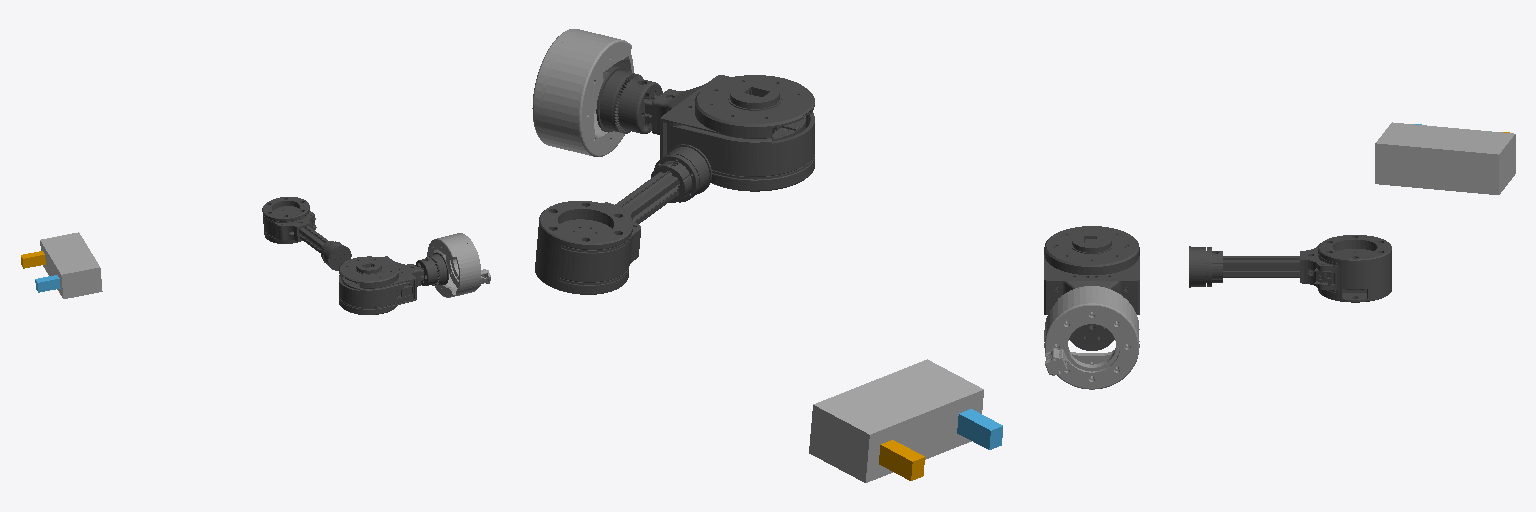
robot.urdf — DIVAR2V:
<?xml version="1.0" encoding="utf-8"?>
<!-- This URDF was automatically created by SolidWorks to URDF Exporter! Originally created by [author] ([email redacted])
     Commit Version: 1.6.0-1-g15f4949  Build Version: 1.6.7594.29634
     For more information, please see http://wiki.ros.org/sw_urdf_exporter -->
<!-- Modified inertial data based on AK motors -->
<robot
  name="DIVAR2V">
  <link
    name="base_link">
    <inertial>
      <origin
        xyz="0.0338364901739526 -0.00033626459572959 -9.69008007512981E-05"
        rpy="0 0 0" />
      <mass
        value="0.298766922776314" />
      <inertia
        ixx="0.000318637899977369"
        ixy="-3.60356780952487E-06"
        ixz="-8.01985345093479E-06"
        iyy="0.000243715324843074"
        iyz="-3.99019261867312E-05"
        izz="0.000150326005973297" />
    </inertial>
    <visual>
      <origin
        xyz="0 0 0"
        rpy="0 0 0" />
      <geometry>
        <mesh
          filename="../meshes/base_link.obj" />
      </geometry>
      <material
        name="">
        <color
          rgba="0.627450980392157 0.627450980392157 0.627450980392157 1" />
      </material>
    </visual>
    <collision>
      <origin
        xyz="0 0 0"
        rpy="0 0 0" />
      <geometry>
        <mesh
          filename="../meshes/base_link.obj" />
      </geometry>
    </collision>
  </link>
  <link
    name="link1">
    <inertial>
      <origin
        xyz="0.0015605 0.00039961 0.1303"
        rpy="0 0 0" />
      <mass
        value="0.621" />
      <inertia
        ixx="0.00063086"
        ixy="1.0188E-07"
        ixz="-4.5061E-06"
        iyy="0.00036201"
        iyz="2.3142E-08"
        izz="0.00060371" />
    </inertial>
    <visual>
      <origin
        xyz="0 0 0"
        rpy="0 0 0" />
      <geometry>
        <mesh
          filename="../meshes/link1.obj" />
      </geometry>
      <material
        name="">
        <color
          rgba="0.3451 0.3451 0.3451 1" />
      </material>
    </visual>
    <collision>
      <origin
        xyz="0 0 0"
        rpy="0 0 0" />
      <geometry>
        <mesh
          filename="../meshes/link1.obj" />
      </geometry>
    </collision>
  </link>
  <joint
    name="joint1"
    type="revolute">
    <origin
      xyz="0.025 0 0"
      rpy="0 -1.5708 0" />
    <parent
      link="base_link" />
    <child
      link="link1" />
    <axis
      xyz="0 0 1" />
  </joint>
  <link
    name="link2">
    <inertial>
      <origin
        xyz="-8.9718E-05 -0.06338 0.0072056"
        rpy="0 0 0" />
      <mass
        value="0.468" />
      <inertia
        ixx="0.0002988"
        ixy="-1.088E-06"
        ixz="-1.2272E-05"
        iyy="0.00032243"
        iyz="-1.6792E-06"
        izz="0.00027812" />
    </inertial>
    <visual>
      <origin
        xyz="0 0 0"
        rpy="0 0 0" />
      <geometry>
        <mesh
          filename="../meshes/link2.obj" />
      </geometry>
      <material
        name="">
        <color
          rgba="0.3451 0.3451 0.3451 1" />
      </material>
    </visual>
    <collision>
      <origin
        xyz="0 0 0"
        rpy="0 0 0" />
      <geometry>
        <mesh
          filename="../meshes/link2.obj" />
      </geometry>
    </collision>
  </link>
  <joint
    name="joint2"
    type="revolute">
    <origin
      xyz="0.00465 0 0.16275"
      rpy="3.1416 -1.5708 0" />
    <parent
      link="link1" />
    <child
      link="link2" />
    <axis
      xyz="0 0 1" />
  </joint>
  <link
    name="link3">
    <inertial>
      <origin
        xyz="-0.0027038 -0.00048992 0.18137"
        rpy="0 0 0" />
      <mass
        value="0.562" />
      <inertia
        ixx="0.00023922"
        ixy="-2.8245E-06"
        ixz="2.5833E-06"
        iyy="0.00017088"
        iyz="1.3582E-05"
        izz="0.00018722" />
    </inertial>
    <visual>
      <origin
        xyz="0 0 0"
        rpy="0 0 0" />
      <geometry>
        <mesh
          filename="../meshes/link3.obj" />
      </geometry>
      <material
        name="">
        <color
          rgba="0.3451 0.3451 0.3451 1" />
      </material>
    </visual>
    <collision>
      <origin
        xyz="0 0 0"
        rpy="0 0 0" />
      <geometry>
        <mesh
          filename="../meshes/link3.obj" />
      </geometry>
    </collision>
  </link>
  <joint
    name="joint3"
    type="revolute">
    <origin
      xyz="0 -0.088176 0.0044"
      rpy="1.5708 -1.4835 0" />
    <parent
      link="link2" />
    <child
      link="link3" />
    <axis
      xyz="0 0 1" />
  </joint>
  <link
    name="link4">
    <inertial>
      <origin
        xyz="-0.046076 -0.00066572 0.010386"
        rpy="0 0 0" />
      <mass
        value="0.468" />
      <inertia
        ixx="0.0001459"
        ixy="2.3566E-06"
        ixz="2.0693E-06"
        iyy="0.00010742"
        iyz="-1.0243E-05"
        izz="0.00015654" />
    </inertial>
    <visual>
      <origin
        xyz="0 0 0"
        rpy="0 0 0" />
      <geometry>
        <mesh
          filename="../meshes/link4.obj" />
      </geometry>
      <material
        name="">
        <color
          rgba="0.3451 0.3451 0.3451 1" />
      </material>
    </visual>
    <collision>
      <origin
        xyz="0 0 0"
        rpy="0 0 0" />
      <geometry>
        <mesh
          filename="../meshes/link4.obj" />
      </geometry>
    </collision>
  </link>
  <joint
    name="joint4"
    type="revolute">
    <origin
      xyz="-0.0083238 0.00013216 0.21184"
      rpy="1.5708 0.2618 1.5708" />
    <parent
      link="link3" />
    <child
      link="link4" />
    <axis
      xyz="0 0 1" />
  </joint>
  <link
    name="link5">
    <inertial>
      <origin
        xyz="6.9412E-07 -8.0151E-06 0.096764"
        rpy="0 0 0" />
      <mass
        value="0.1834" />
      <inertia
        ixx="0.00048569"
        ixy="-3.3211E-09"
        ixz="-1.2569E-08"
        iyy="0.00048571"
        iyz="2.0111E-10"
        izz="0.000142" />
    </inertial>
    <visual>
      <origin
        xyz="0 0 0"
        rpy="0 0 0" />
      <geometry>
        <mesh
          filename="../meshes/link5.obj" />
      </geometry>
      <material
        name="">
        <color
          rgba="0.054902 0.47059 0.9098 1" />
      </material>
    </visual>
    <collision>
      <origin
        xyz="0 0 0"
        rpy="0 0 0" />
      <geometry>
        <mesh
          filename="../meshes/link5.obj" />
      </geometry>
    </collision>
  </link>
  <joint
    name="joint5"
    type="revolute">
    <origin
      xyz="-0.070176 0.00013216 0.0070738"
      rpy="1.1947 -1.5708 -1.1926" />
    <parent
      link="link4" />
    <child
      link="link5" />
    <axis
      xyz="0 0 1" />
  </joint>


  <link
    name="link6">
    <inertial>
      <origin
        xyz="-0.046076 -0.00066572 0.010386"
        rpy="0 0 0" />
      <mass
        value="0.468" />
      <inertia
        ixx="0.0001459"
        ixy="2.3566E-06"
        ixz="2.0693E-06"
        iyy="0.00010742"
        iyz="-1.0243E-05"
        izz="0.00015654" />
    </inertial>
    <visual>
      <origin
        xyz="0 0 0"
        rpy="0 0 0" />
      <geometry>
        <mesh
          filename="../meshes/link4.obj" />
      </geometry>
      <material
        name="">
        <color
          rgba="0.3451 0.3451 0.3451 1" />
      </material>
    </visual>
    <collision>
      <origin
        xyz="0 0 0"
        rpy="0 0 0" />
      <geometry>
        <mesh
          filename="../meshes/link4.obj" />
      </geometry>
    </collision>
  </link>

  <joint
    name="joint6"
    type="revolute">
    <origin
      xyz="-0.008 0 0.2"
      rpy=" 0 1.57 0" />
    <parent
      link="link5" />
    <child
      link="link6" />
    <axis
      xyz="0 0 1" />
  </joint>

  <link name="gripper">
    <inertial>
      <origin
        xyz="-0.13 0 0"
        rpy="0 0 1.57" />
        <mass
          value="0.988882" />
        <inertia
          ixx="0.162992"
          ixy="0"
          ixz="0"
          iyy="0.162992"
          iyz="0"
          izz="0.164814" />
    </inertial>

    <visual name="visual">
      <origin
        xyz="-0.13 0 0"
        rpy="0 0 1.57" />
      <geometry>
        <box size="0.146 0.0725 0.049521"/>
      </geometry>
    </visual>
    <collision name="collision">
      <origin
        xyz="-0.13 0 0"
        rpy="0 0 1.57" />
      <geometry>
        <box size="0.146 0.0725 0.049521"/>
      </geometry>
    </collision>
  </link>

  <joint
    name="joint7"
    type="revolute">
    <origin
      xyz="0 0 0"
      rpy=" 0 0 0" />
    <parent
      link="link6" />
    <child
      link="gripper" />
    <axis
      xyz="1 0 0" />
  </joint>

  <link name="left_finger">
    <origin
      xyz="-0.17 0.05 0"
      rpy="0 0 1.57" />
    <inertial>
      <mass>0.05</mass>
      <inertia>
        <ixx>0.16</ixx>
        <ixy>0</ixy>
        <ixz>0</ixz>
        <iyy>0.16</iyy>
        <iyz>0</iyz>
        <izz>0.16</izz>
      </inertia>
    </inertial>

    <visual name="visual">
      <origin
        xyz="-0.17 0.05 0"
        rpy="0 0 1.57" />
      <geometry>
        <box size="0.016 0.075 0.02"/>
      </geometry>
    </visual>
    <collision name="collision">
      <origin
        xyz="-0.17 0.05 0"
        rpy="0 0 1.57" />
      <geometry>
        <box size="0.016 0.075 0.02"/>
      </geometry>
    </collision>
  </link>

  <link name="right_finger">
    <origin
      xyz="-0.17 -0.05 0"
      rpy="0 0 1.57" />
    <inertial>
      <mass>0.05</mass>
      <inertia>
        <ixx>0.16</ixx>
        <ixy>0</ixy>
        <ixz>0</ixz>
        <iyy>0.16</iyy>
        <iyz>0</iyz>
        <izz>0.16</izz>
      </inertia>
    </inertial>

    <visual name="visual">
      <origin
        xyz="-0.17 -0.05 0"
        rpy="0 0 1.57" />
      <geometry>
        <box size="0.016 0.075 0.02"/>
      </geometry>
    </visual>
    <collision name="collision">
      <origin
        xyz="-0.17 -0.05 0"
        rpy="0 0 1.57" />
      <geometry>
        <box size="0.016 0.075 0.02"/>
      </geometry>
    </collision>
  </link>

  <joint
    name="left_finger_sliding_joint"
    type="fixed">
    <origin
      xyz="0 0 0"
      rpy=" 0 0 0" />
    <parent
      link="gripper" />
    <child
      link="left_finger" />
    <axis
      xyz="1 0 0" />
  </joint>

  <joint
    name="right_finger_sliding_joint"
    type="fixed">
    <origin
      xyz="0 0 0"
      rpy=" 0 0 0" />
    <parent
      link="gripper" />
    <child
      link="right_finger" />
    <axis
      xyz="1 0 0" />
  </joint>

  <link name="eef"/>
  <joint
    name="eef_joint"
    type="fixed">
    <origin
        xyz="-0.2 0 0"
        rpy="0 0 1.57" />
    <parent
      link="right_finger" />
    <child
      link="eef" />
  </joint>

  <transmission  name="trans1" >
   <type  xmltext="SimpleTransmission" >
    SimpleTransmission
   </type>
   <actuator  name="motor1" >
    <mechanicalreduction  xmltext="1" >
     1
    </mechanicalreduction>
   </actuator>
   <joint  name="joint1" />
  </transmission>

  <transmission  name="trans2" >
   <type  xmltext="SimpleTransmission" >
    SimpleTransmission
   </type>
   <actuator  name="motor2" >
    <mechanicalreduction  xmltext="1" >
     1
    </mechanicalreduction>
   </actuator>
   <joint  name="joint2" />
  </transmission>

  <transmission  name="trans3" >
   <type  xmltext="SimpleTransmission" >
    SimpleTransmission
   </type>
   <actuator  name="motor3" >
    <mechanicalreduction  xmltext="1" >
     1
    </mechanicalreduction>
   </actuator>
   <joint  name="joint3" />
  </transmission>

  <transmission  name="trans4" >
   <type  xmltext="SimpleTransmission" >
    SimpleTransmission
   </type>
   <actuator  name="motor4" >
    <mechanicalreduction  xmltext="1" >
     1
    </mechanicalreduction>
   </actuator>
   <joint  name="joint4" />
  </transmission>

  <transmission  name="trans5" >
   <type  xmltext="SimpleTransmission" >
    SimpleTransmission
   </type>
   <actuator  name="motor5" >
    <mechanicalreduction  xmltext="1" >
     1
    </mechanicalreduction>
   </actuator>
   <joint  name="joint5" />
  </transmission>

  <transmission  name="trans6" >
   <type  xmltext="SimpleTransmission" >
    SimpleTransmission
   </type>
   <actuator  name="motor6" >
    <mechanicalreduction  xmltext="1" >
     1
    </mechanicalreduction>
   </actuator>
   <joint  name="joint6" />
  </transmission>

  <transmission  name="trans7" >
   <type  xmltext="SimpleTransmission" >
    SimpleTransmission
   </type>
   <actuator  name="motor7" >
    <mechanicalreduction  xmltext="1" >
     1
    </mechanicalreduction>
   </actuator>
   <joint  name="joint7" />
  </transmission>
</robot>

--- Facts derived from the render (not from the file) ---
The picture shows the robot from 3 angles, left to right: view 1: azimuth 30°, elevation 25°; view 2: azimuth 150°, elevation 25°; view 3: azimuth 270°, elevation 25°; orthographic projection.
Robot: DIVAR2V — 11 links, 10 joints (7 revolute, 3 fixed); root link base_link; default pose: every joint at zero.
Visible links, largest first — view 1: link1, link3, gripper, base_link; view 2: link1, gripper, link3, base_link, left_finger, right_finger; view 3: gripper, link3, link1, base_link.
Boxes of the visible links, x1,y1,x2,y2 form: link1: (339, 252, 448, 314); link3: (262, 197, 351, 270); gripper: (40, 232, 102, 298); base_link: (427, 233, 490, 297); link1: (596, 67, 814, 191); gripper: (809, 359, 983, 482); link3: (535, 144, 711, 294); base_link: (532, 29, 633, 156); left_finger: (879, 440, 924, 480); right_finger: (957, 409, 1002, 449); gripper: (1375, 122, 1515, 194); link3: (1189, 235, 1391, 302); link1: (1044, 226, 1139, 350); base_link: (1044, 286, 1139, 389).
Size in the robot's own frame: 0.6915 by 0.5371 by 0.1176 metres.
Meshes: 6 distinct files referenced, 3 mesh visuals loaded (3 OBJ); not drawn: 4 (reference not matched to a file when rendering).
